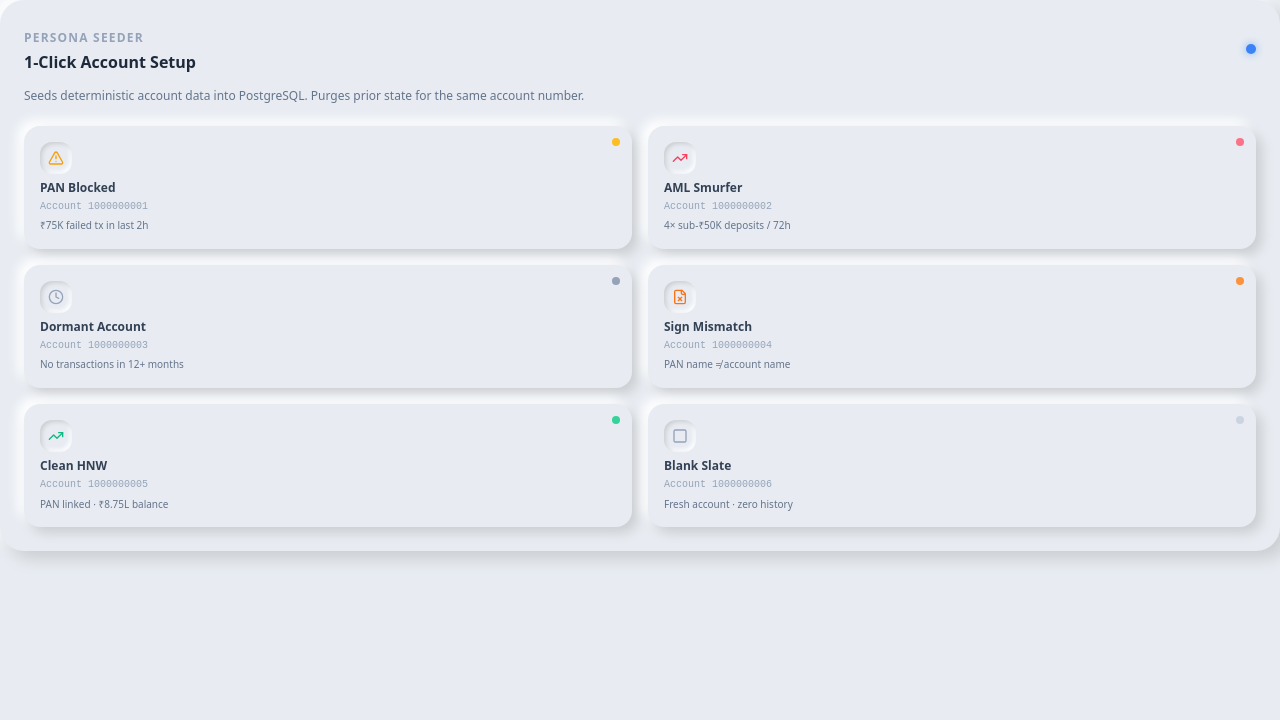
Test: PersonaSeeder › loading state › disables all buttons while a seed is in progress
Click the list item with aria-label "Seed PAN Blocked persona".
click(56, 158)  # box top-left (24, 126), bottom-right (632, 249)
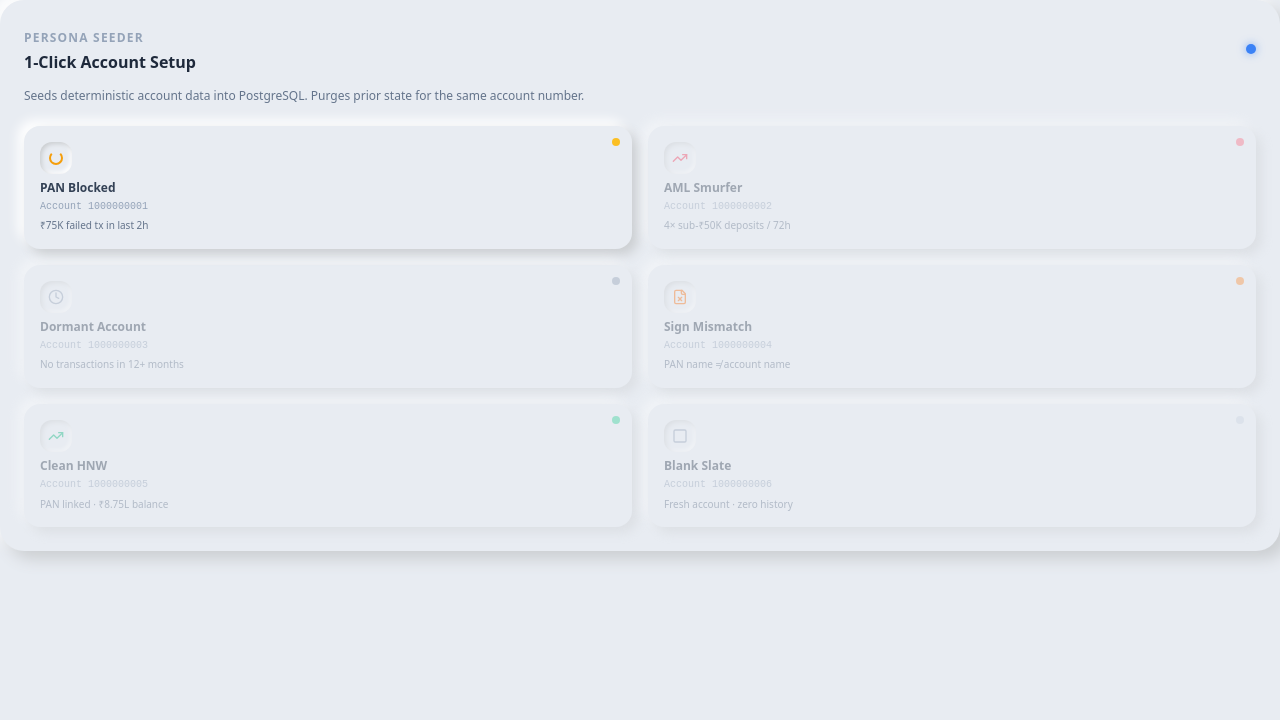
Result: the list item "PAN Blocked Account 1000000001 ₹75K failed tx in last 2h" is disabled at top-left (24, 126), bottom-right (632, 249)
Result: the list item "AML Smurfer Account 1000000002 4× sub-₹50K deposits / 72h" is disabled at top-left (648, 126), bottom-right (1256, 249)
Result: the list item with aria-label "Seed Dormant Account persona" is disabled at top-left (24, 265), bottom-right (632, 388)
